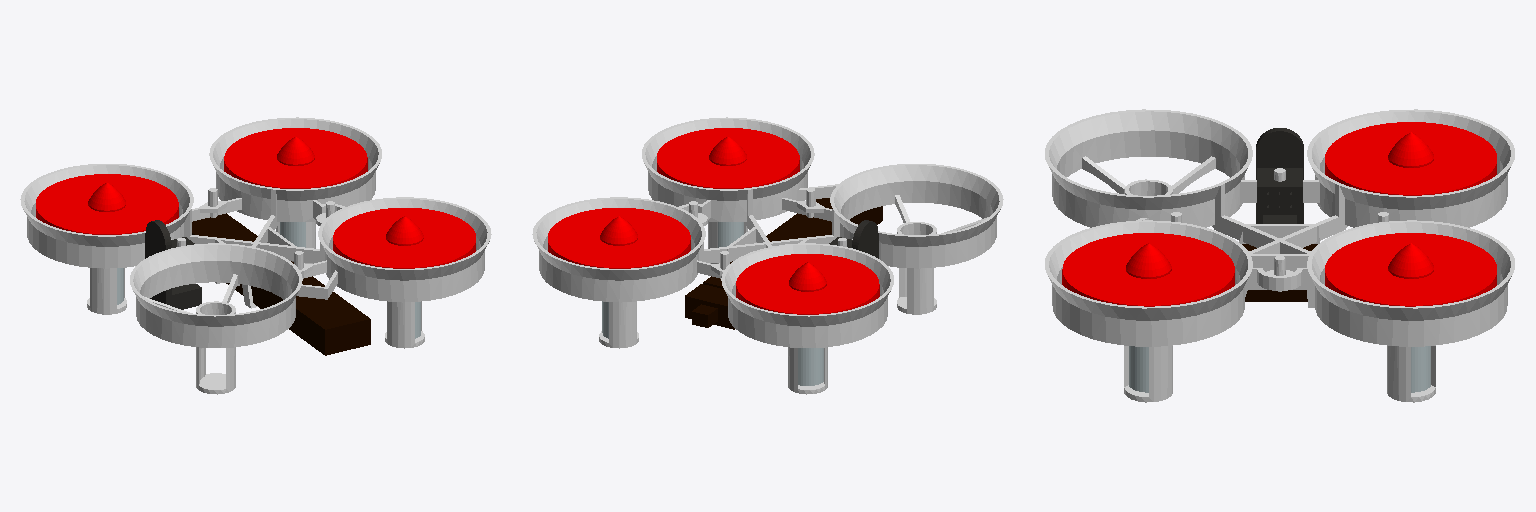
robot.urdf — stampfly:
<?xml version="1.0"?>
<robot name="stampfly">

  <!-- Materials -->
  <material name="motor_fl_material">
    <color rgba="0.7765 0.8314 0.8431 1"/>
  </material>
  <material name="motor_rl_material">
    <color rgba="0.7765 0.8314 0.8431 1"/>
  </material>
  <material name="motor_fr_material">
    <color rgba="0.7765 0.8314 0.8431 1"/>
  </material>
  <material name="motor_rr_material">
    <color rgba="0.7765 0.8314 0.8431 1"/>
  </material>
  <material name="propeller_fl_material">
    <color rgba="1.0000 0.0000 0.0000 0.7"/>
  </material>
  <material name="propeller_rr_material">
    <color rgba="1.0000 0.0000 0.0000 0.7"/>
  </material>
  <material name="propeller_rl_material">
    <color rgba="1.0000 0.0000 0.0000 0.7"/>
  </material>
  <material name="propeller_fr_material">
    <color rgba="1.0000 0.0000 0.0000 0.7"/>
  </material>
  <material name="battery_material">
    <color rgba="0.1569 0.0667 0.0039 1"/>
  </material>
  <material name="battery_adapter_material">
    <color rgba="0.2196 0.2118 0.2000 1"/>
  </material>
  <material name="frame_material">
    <color rgba="0.9000 0.9000 0.9000 0.9"/>
  </material>
  <material name="pcb_material">
    <color rgba="0.1020 0.0980 0.0980 1"/>
  </material>
  <material name="m5stamps3_material">
    <color rgba="1.0000 0.4000 0.0000 1"/>
  </material>

  <!-- Base Link (main body) -->
  <link name="base_link">
    <!-- motor_fl -->
    <visual name="motor_fl_visual">
      <origin xyz="0 0 0" rpy="-1.5708 3.14159 0"/>
      <geometry>
        <mesh filename="motor_fl.stl" scale="0.001 0.001 0.001"/>
      </geometry>
      <material name="motor_fl_material"/>
    </visual>
    <!-- motor_rl -->
    <visual name="motor_rl_visual">
      <origin xyz="0 0 0" rpy="-1.5708 3.14159 0"/>
      <geometry>
        <mesh filename="motor_rl.stl" scale="0.001 0.001 0.001"/>
      </geometry>
      <material name="motor_rl_material"/>
    </visual>
    <!-- motor_fr -->
    <visual name="motor_fr_visual">
      <origin xyz="0 0 0" rpy="-1.5708 3.14159 0"/>
      <geometry>
        <mesh filename="motor_fr.stl" scale="0.001 0.001 0.001"/>
      </geometry>
      <material name="motor_fr_material"/>
    </visual>
    <!-- motor_rr -->
    <visual name="motor_rr_visual">
      <origin xyz="0 0 0" rpy="-1.5708 3.14159 0"/>
      <geometry>
        <mesh filename="motor_rr.stl" scale="0.001 0.001 0.001"/>
      </geometry>
      <material name="motor_rr_material"/>
    </visual>
    <!-- battery -->
    <visual name="battery_visual">
      <origin xyz="0 0 0" rpy="-1.5708 3.14159 0"/>
      <geometry>
        <mesh filename="battery.stl" scale="0.001 0.001 0.001"/>
      </geometry>
      <material name="battery_material"/>
    </visual>
    <!-- battery_adapter -->
    <visual name="battery_adapter_visual">
      <origin xyz="0 0 0" rpy="-1.5708 3.14159 0"/>
      <geometry>
        <mesh filename="battery_adapter.stl" scale="0.001 0.001 0.001"/>
      </geometry>
      <material name="battery_adapter_material"/>
    </visual>
    <!-- frame -->
    <visual name="frame_visual">
      <origin xyz="0 0 0" rpy="-1.5708 3.14159 0"/>
      <geometry>
        <mesh filename="frame.stl" scale="0.001 0.001 0.001"/>
      </geometry>
      <material name="frame_material"/>
    </visual>
    <!-- pcb -->
    <visual name="pcb_visual">
      <origin xyz="0 0 0" rpy="-1.5708 3.14159 0"/>
      <geometry>
        <mesh filename="pcb.stl" scale="0.001 0.001 0.001"/>
      </geometry>
      <material name="pcb_material"/>
    </visual>
    <!-- m5stamps3 -->
    <visual name="m5stamps3_visual">
      <origin xyz="0 0 0" rpy="-1.5708 3.14159 0"/>
      <geometry>
        <mesh filename="m5stamps3.stl" scale="0.001 0.001 0.001"/>
      </geometry>
      <material name="m5stamps3_material"/>
    </visual>
    <collision name="base_collision">
      <origin xyz="0 0 0" rpy="-1.5708 3.14159 0"/>
      <geometry>
        <mesh filename="frame.stl" scale="0.001 0.001 0.001"/>
      </geometry>
    </collision>
    <inertial>
      <origin xyz="0 0 0" rpy="0 0 0"/>
      <mass value="0.030"/>
      <inertia ixx="9.16e-6" ixy="0" ixz="0" iyy="13.3e-6" iyz="0" izz="20.4e-6"/>
    </inertial>
  </link>

  <!-- Propeller Links -->
  <!-- propeller_fl -> prop2_link -->
  <link name="prop2_link">
    <visual name="propeller_fl_visual">
      <origin xyz="0 0 0" rpy="-1.5708 3.14159 0"/>
      <geometry>
        <mesh filename="propeller_fl.stl" scale="0.001 0.001 0.001"/>
      </geometry>
      <material name="propeller_fl_material"/>
    </visual>
    <inertial>
      <origin xyz="0 0 0" rpy="0 0 0"/>
      <mass value="0.001"/>
      <inertia ixx="1e-9" ixy="0" ixz="0" iyy="1e-9" iyz="0" izz="1e-9"/>
    </inertial>
  </link>

  <joint name="prop2_joint" type="continuous">
    <parent link="base_link"/>
    <child link="prop2_link"/>
    <origin xyz="0 0 0" rpy="0 0 0"/>
    <axis xyz="0 0 1"/>
    <dynamics damping="0.0001"/>
  </joint>

  <!-- propeller_rr -> prop3_link -->
  <link name="prop3_link">
    <visual name="propeller_rr_visual">
      <origin xyz="0 0 0" rpy="-1.5708 3.14159 0"/>
      <geometry>
        <mesh filename="propeller_rr.stl" scale="0.001 0.001 0.001"/>
      </geometry>
      <material name="propeller_rr_material"/>
    </visual>
    <inertial>
      <origin xyz="0 0 0" rpy="0 0 0"/>
      <mass value="0.001"/>
      <inertia ixx="1e-9" ixy="0" ixz="0" iyy="1e-9" iyz="0" izz="1e-9"/>
    </inertial>
  </link>

  <joint name="prop3_joint" type="continuous">
    <parent link="base_link"/>
    <child link="prop3_link"/>
    <origin xyz="0 0 0" rpy="0 0 0"/>
    <axis xyz="0 0 1"/>
    <dynamics damping="0.0001"/>
  </joint>

  <!-- propeller_rl -> prop1_link -->
  <link name="prop1_link">
    <visual name="propeller_rl_visual">
      <origin xyz="0 0 0" rpy="-1.5708 3.14159 0"/>
      <geometry>
        <mesh filename="propeller_rl.stl" scale="0.001 0.001 0.001"/>
      </geometry>
      <material name="propeller_rl_material"/>
    </visual>
    <inertial>
      <origin xyz="0 0 0" rpy="0 0 0"/>
      <mass value="0.001"/>
      <inertia ixx="1e-9" ixy="0" ixz="0" iyy="1e-9" iyz="0" izz="1e-9"/>
    </inertial>
  </link>

  <joint name="prop1_joint" type="continuous">
    <parent link="base_link"/>
    <child link="prop1_link"/>
    <origin xyz="0 0 0" rpy="0 0 0"/>
    <axis xyz="0 0 1"/>
    <dynamics damping="0.0001"/>
  </joint>

  <!-- propeller_fr -> prop0_link -->
  <link name="prop0_link">
    <visual name="propeller_fr_visual">
      <origin xyz="0 0 0" rpy="-1.5708 3.14159 0"/>
      <geometry>
        <mesh filename="propeller_fr.stl" scale="0.001 0.001 0.001"/>
      </geometry>
      <material name="propeller_fr_material"/>
    </visual>
    <inertial>
      <origin xyz="0 0 0" rpy="0 0 0"/>
      <mass value="0.001"/>
      <inertia ixx="1e-9" ixy="0" ixz="0" iyy="1e-9" iyz="0" izz="1e-9"/>
    </inertial>
  </link>

  <joint name="prop0_joint" type="continuous">
    <parent link="base_link"/>
    <child link="prop0_link"/>
    <origin xyz="0 0 0" rpy="0 0 0"/>
    <axis xyz="0 0 1"/>
    <dynamics damping="0.0001"/>
  </joint>

</robot>

--- Facts derived from the render (not from the file) ---
3 views of the same robot in one strip: view 1: azimuth 30°, elevation 25°; view 2: azimuth 150°, elevation 25°; view 3: azimuth 270°, elevation 25° (orthographic).
Robot: stampfly — 5 links, 4 joints (4 continuous); root link base_link; default pose: all joints at 0.
Visible links, largest first — view 1: base_link, prop0_link, prop3_link, prop2_link; view 2: base_link, prop2_link, prop3_link, prop0_link; view 3: base_link, prop3_link, prop2_link, prop0_link.
Boxes of the visible links, left/top/right/bottom form: base_link: left=20, top=117, right=491, bottom=394; prop0_link: left=224, top=128, right=367, bottom=188; prop3_link: left=333, top=208, right=475, bottom=268; prop2_link: left=36, top=174, right=178, bottom=234; base_link: left=532, top=117, right=1003, bottom=394; prop2_link: left=736, top=254, right=879, bottom=314; prop3_link: left=657, top=128, right=799, bottom=188; prop0_link: left=548, top=208, right=690, bottom=268; base_link: left=1045, top=109, right=1514, bottom=402; prop3_link: left=1062, top=233, right=1234, bottom=306; prop2_link: left=1325, top=122, right=1496, bottom=195; prop0_link: left=1325, top=233, right=1496, bottom=306.
Bounding box of the posed robot: 0.0818 × 0.0818 × 0.0288 m (x, y, z).
Meshes: 13 distinct files referenced, 9 mesh visuals loaded (9 binary STL); not drawn: 4 (reference not matched to a file when rendering).
